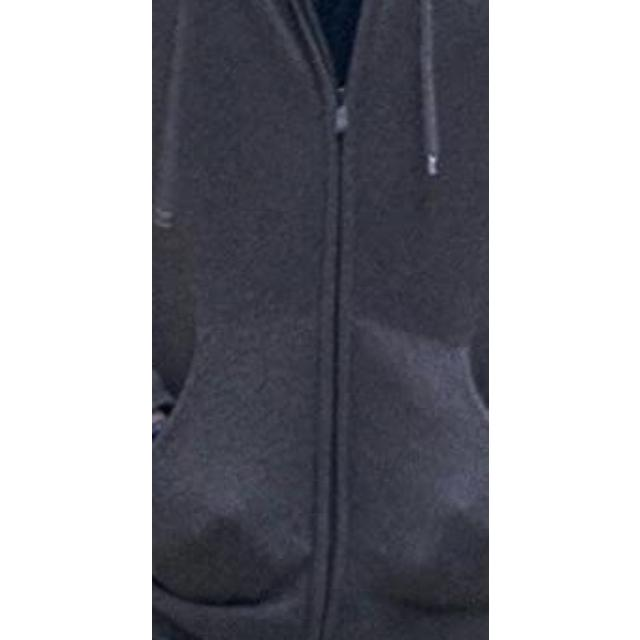wool: (152, 0, 488, 640)
